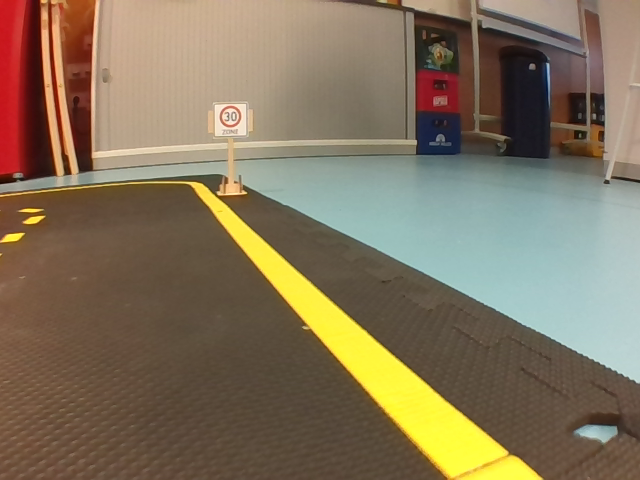no30: (421, 84, 461, 130)
stop: (111, 102, 124, 138)
